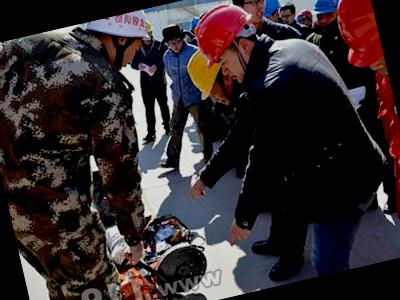no_helmet: (158, 18, 190, 58), (229, 0, 272, 27)
